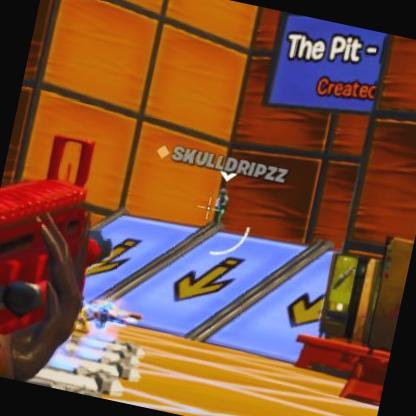person: (210, 186, 233, 225)
